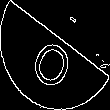O_NE: (28, 21, 82, 89)
